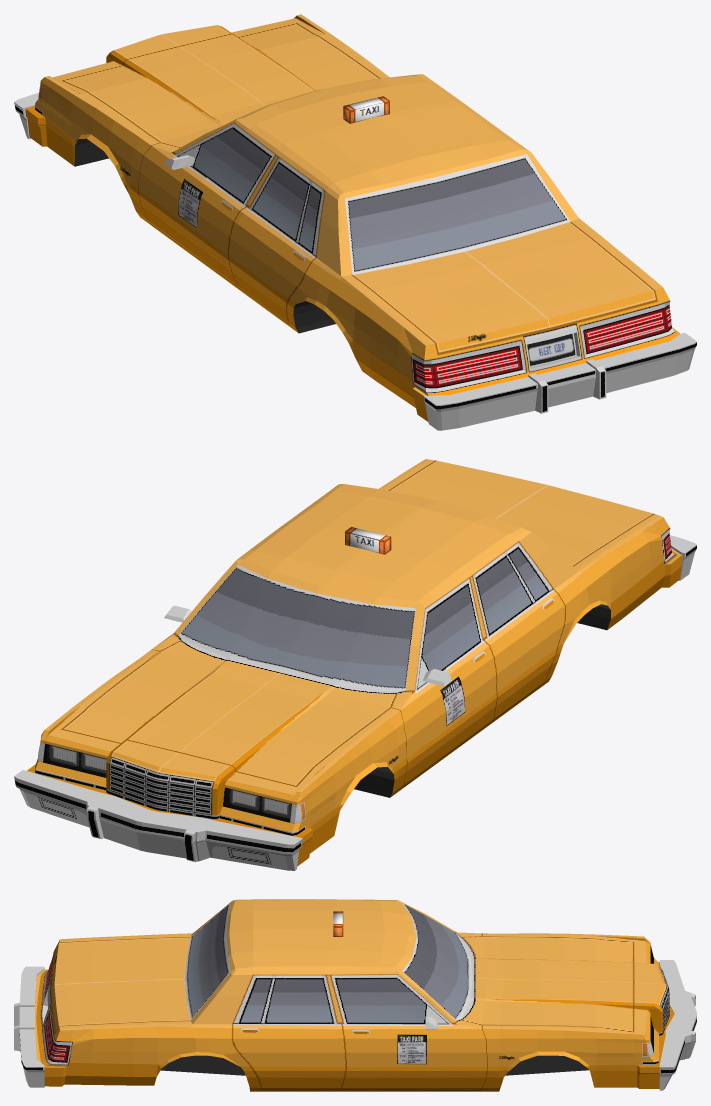
The model's file is 81stregistaxi1.fbx.
3 renders of one model, top to bottom at view 1: azimuth 30°, elevation 25°; view 2: azimuth 150°, elevation 25°; view 3: azimuth 270°, elevation 25°, orthographic. The views are drawn at different scales.
Visible parts, largest first — view 1: 81stregis; view 2: 81stregis; view 3: 81stregis.
Boxes of the visible parts, box(x1,y1,x2,y2) form: 81stregis: box(14, 14, 696, 430); 81stregis: box(14, 459, 696, 870); 81stregis: box(14, 899, 696, 1091).
Bounding box in the file's own units: 2.35 × 1.27 × 6.31.
